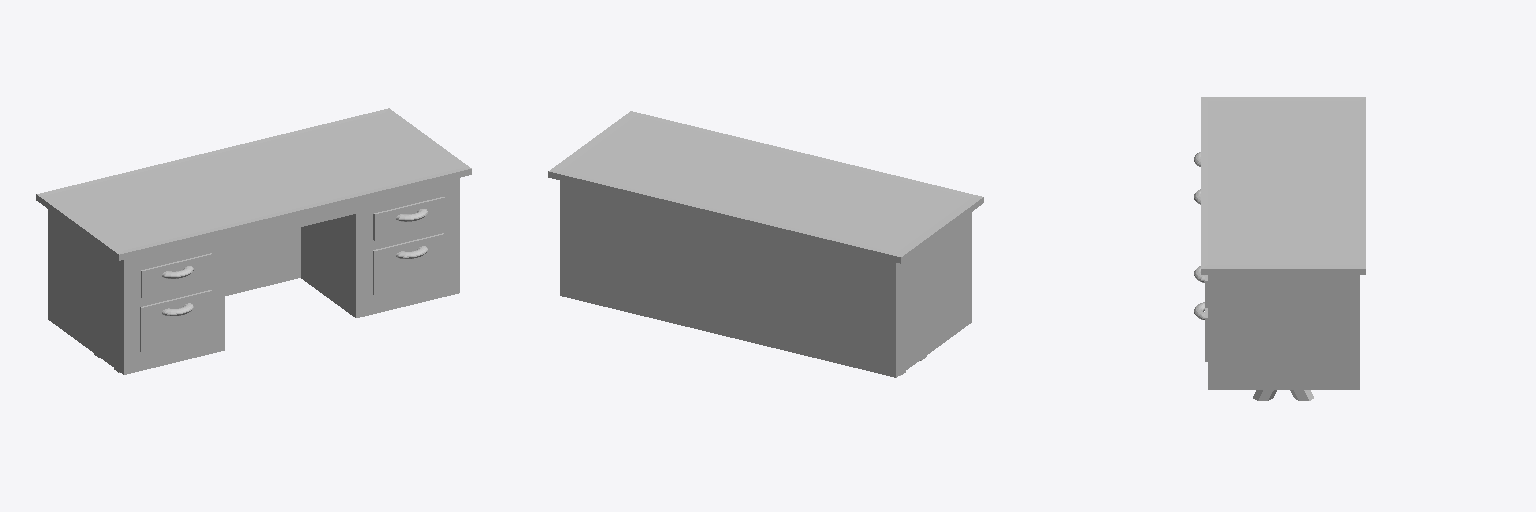
File: Desk.obj
3 renders of one model, left to right at view 1: azimuth 30°, elevation 25°; view 2: azimuth 150°, elevation 25°; view 3: azimuth 270°, elevation 25°, orthographic.
Parts seen in each view (by area): view 1: pCube13, pCube7, pCube3, pCube9, pCube10; view 2: pCube13; view 3: pCube13.
Part boxes in pixels (bbox=[...]): pCube13: bbox=[36, 108, 471, 374]; pCube7: bbox=[140, 290, 211, 351]; pCube3: bbox=[373, 233, 444, 295]; pCube9: bbox=[141, 253, 212, 297]; pCube10: bbox=[373, 197, 444, 240]; pCube13: bbox=[548, 111, 983, 377]; pCube13: bbox=[1201, 97, 1365, 389].
Bounding box in the file's own units: 5 × 1.98 × 2.12.